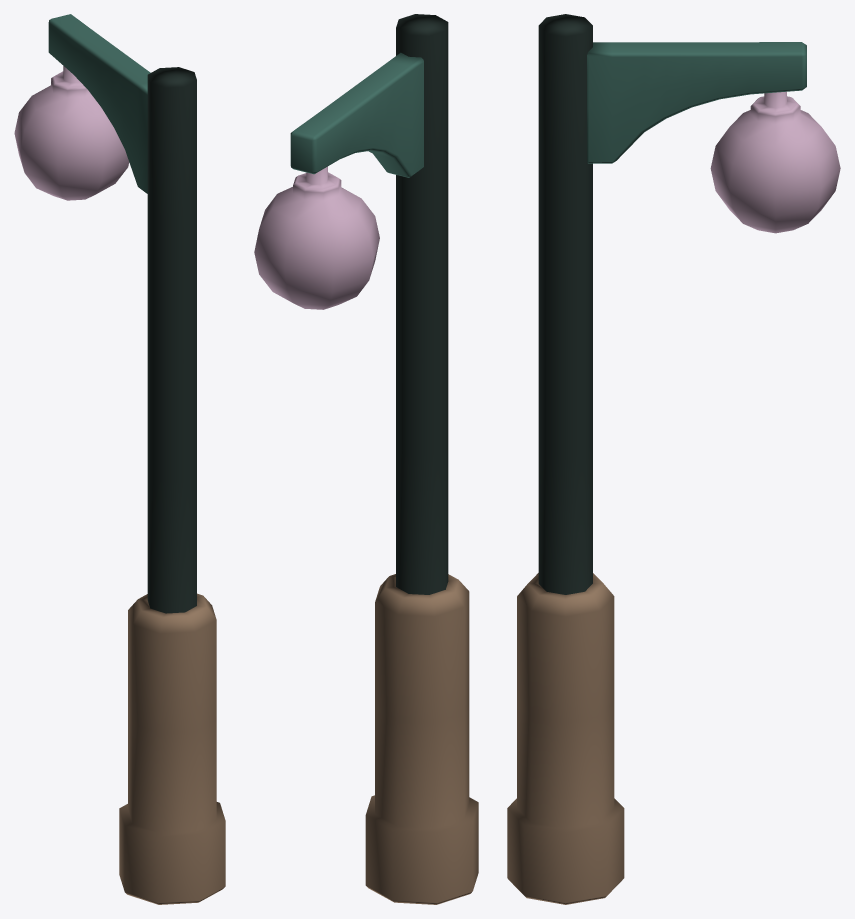
File: light2.fbx
3 renders of one model, left to right at view 1: azimuth 30°, elevation 25°; view 2: azimuth 150°, elevation 25°; view 3: azimuth 270°, elevation 25°, orthographic. The views are drawn at different scales.
Visible parts, largest first — view 1: light2; view 2: light2; view 3: light2.
Part boxes in pixels (<box>): light2: <box>14,14,225,904</box>; light2: <box>254,14,478,904</box>; light2: <box>507,14,840,904</box>.
Size of the model in its own units: 0.4117 by 2.99 by 1.06.
